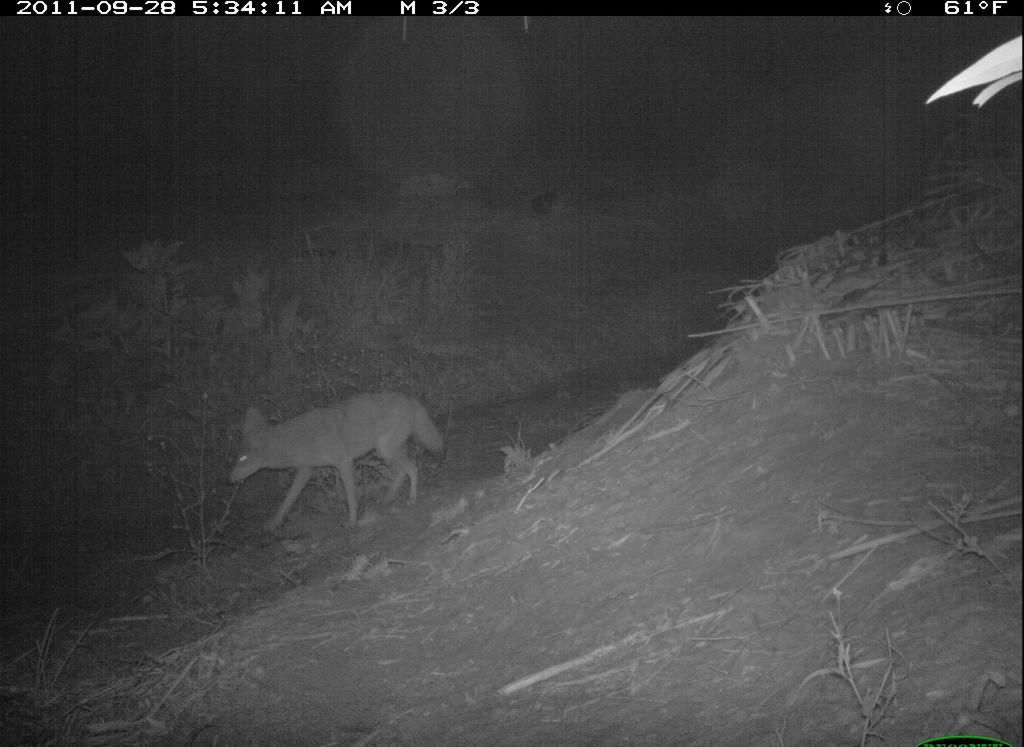coyote: (225, 383, 472, 533)
